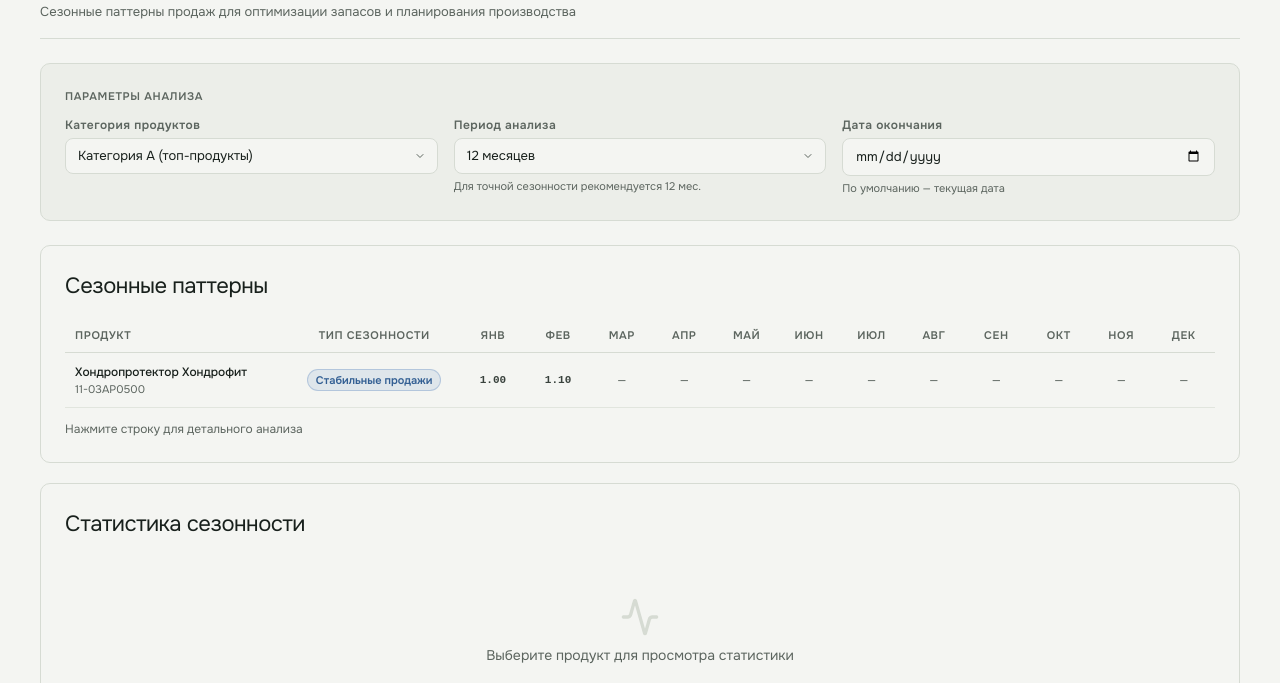
Test: SeasonalAnalysis — клик по строке продукта › открывает детальный анализ выбранного продукта
The image size is (1280, 683).
Expected: the text "Выберите продукт для просмотра статистики" is shown, [486, 645, 794, 666]
Click the text "Хондропротектор Хондрофит": (161, 372) [75, 364, 247, 380]
(page scrolled)
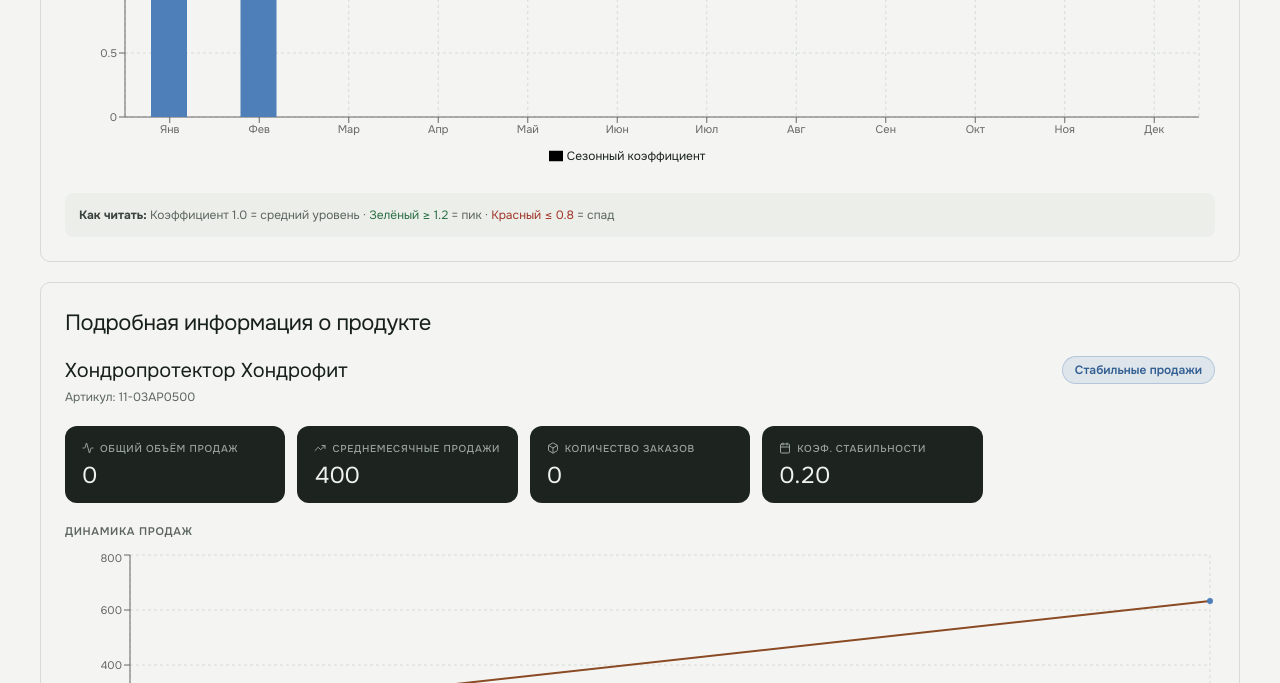
Expected: the heading "Подробная информация о продукте" is shown, [65, 309, 431, 337]
Expected: the text "Выберите продукт для просмотра статистики" is gone
